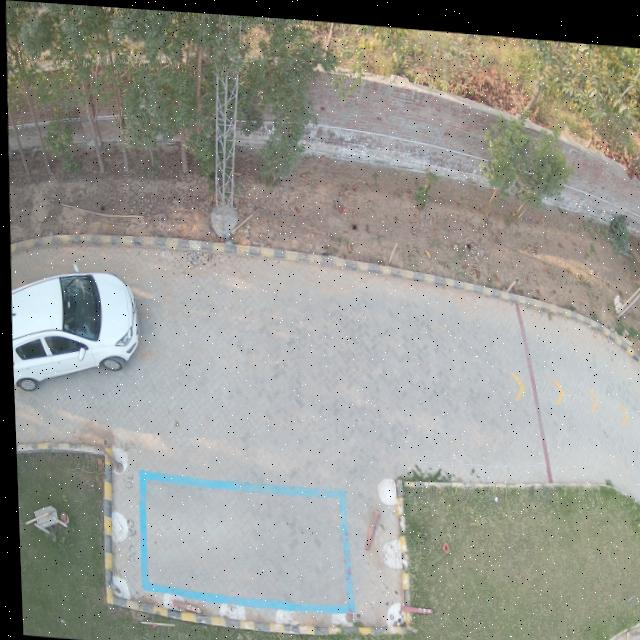car: (9, 270, 136, 389)
